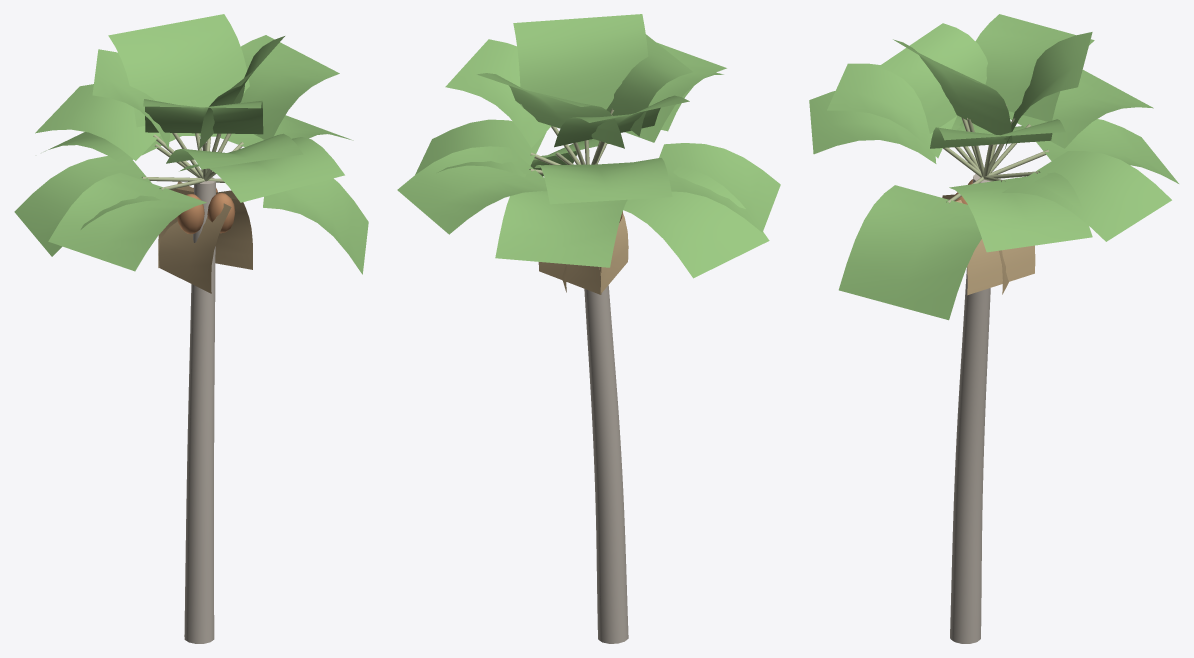
The model's file is buriti_soft_b.glb.
The picture shows the model from 3 angles, left to right: view 1: azimuth 30°, elevation 25°; view 2: azimuth 150°, elevation 25°; view 3: azimuth 270°, elevation 25°; orthographic projection. The views are drawn at different scales.
Parts seen in each view (by area): view 1: buriti_soft_b, trunk; view 2: buriti_soft_b, trunk; view 3: buriti_soft_b, trunk.
Boxes of the visible parts, x1,y1,x2,y2 form: buriti_soft_b: (14,14,368,293); trunk: (184,177,215,643); buriti_soft_b: (397,14,780,294); trunk: (584,285,628,643); buriti_soft_b: (809,14,1178,320); trunk: (950,174,990,643).
Bounding box in the file's own units: 7.14 × 12.5 × 6.97.
